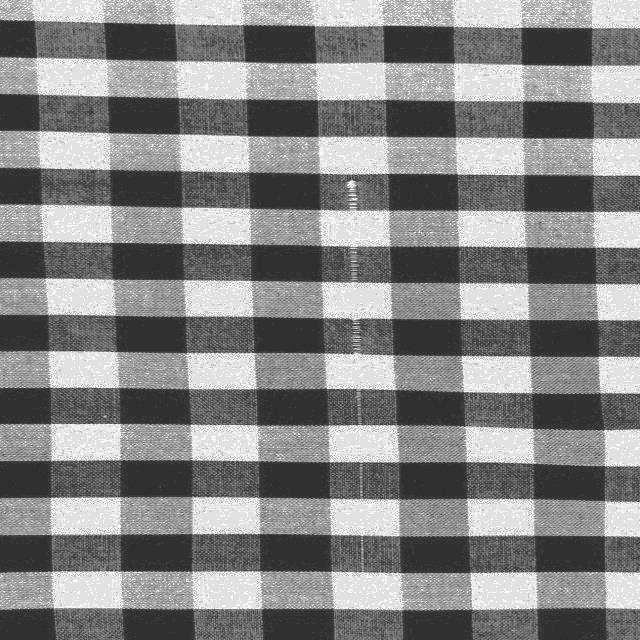Foreign_yarn: (332, 161, 386, 571)
